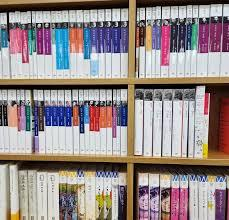book: (0, 5, 126, 77), (0, 86, 127, 156), (1, 165, 128, 220), (138, 6, 227, 77), (136, 87, 213, 155), (138, 169, 227, 214)
